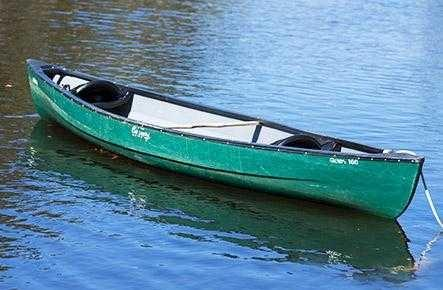kayak: (26, 60, 426, 221)
